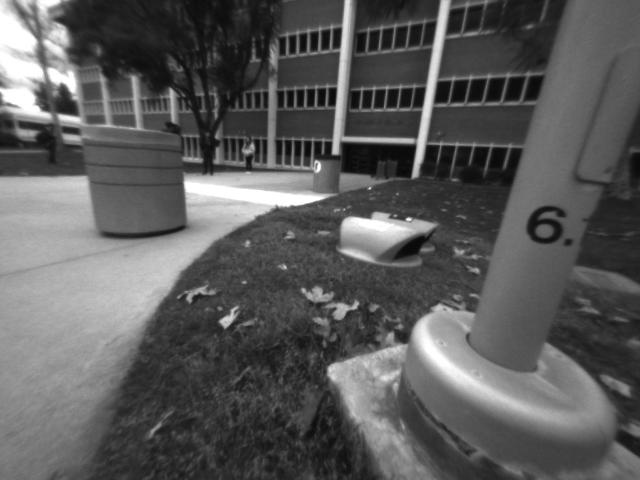trashcan: (82, 121, 196, 240), (316, 151, 341, 196)
